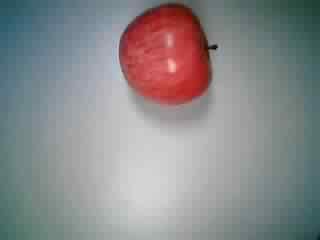apple: (117, 4, 222, 106)
